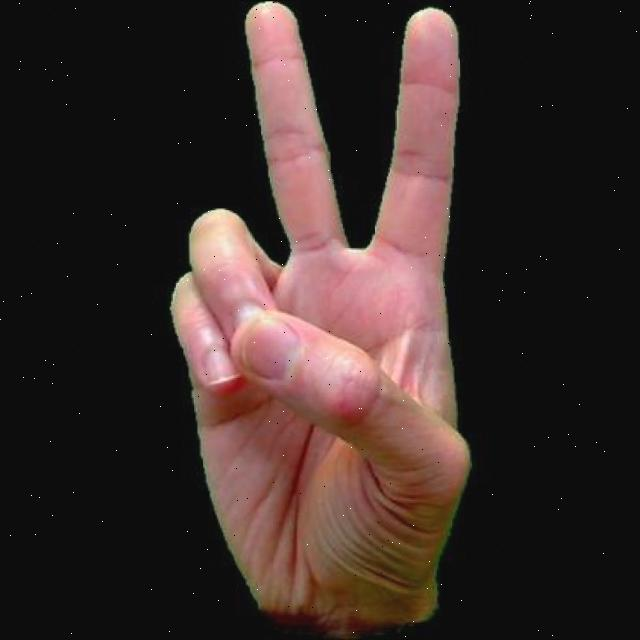v: (144, 0, 490, 640)
